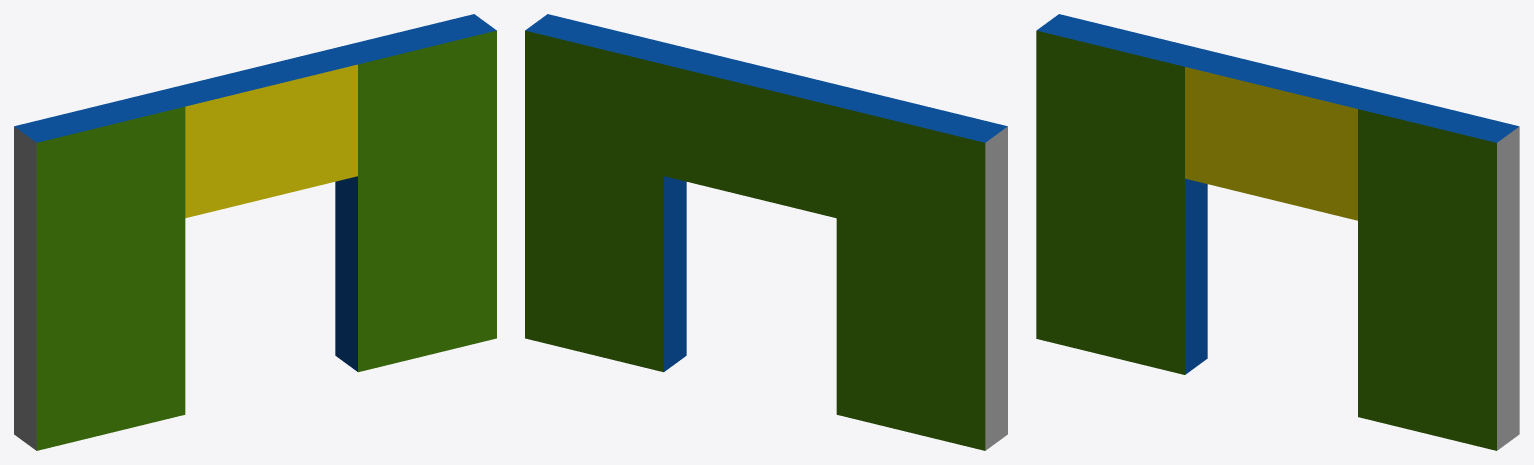
File: Door 1.fbx
The picture shows the model from 3 angles, left to right: view 1: azimuth 30°, elevation 25°; view 2: azimuth 150°, elevation 25°; view 3: azimuth 330°, elevation 25°; orthographic projection.
Parts seen in each view (by area): view 1: Door_C; view 2: Door_C; view 3: Door_C.
Boxes of the visible parts, bbox=[...] form: Door_C: bbox=[14, 14, 496, 450]; Door_C: bbox=[525, 14, 1007, 450]; Door_C: bbox=[1036, 14, 1519, 450].
Size of the model in its own units: 58.1 by 37.17 by 4.95.
